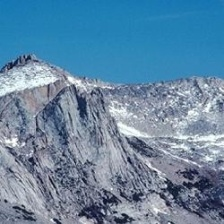neutral: (1, 8, 224, 222)
